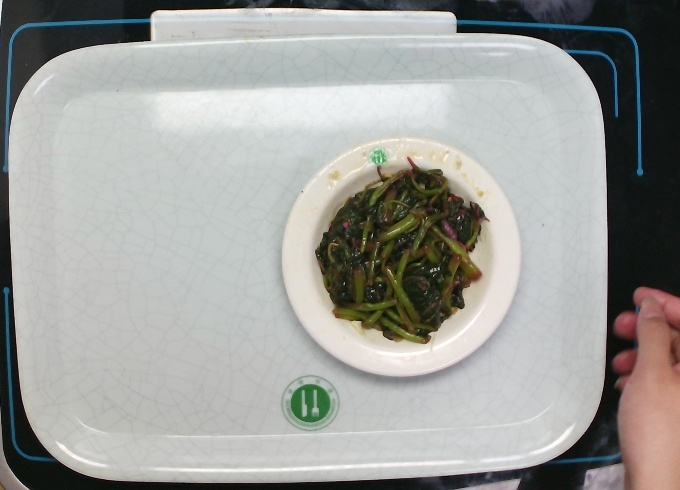WCQzf-Kuan_Bian_Yuan_Die: (276, 133, 528, 379)
